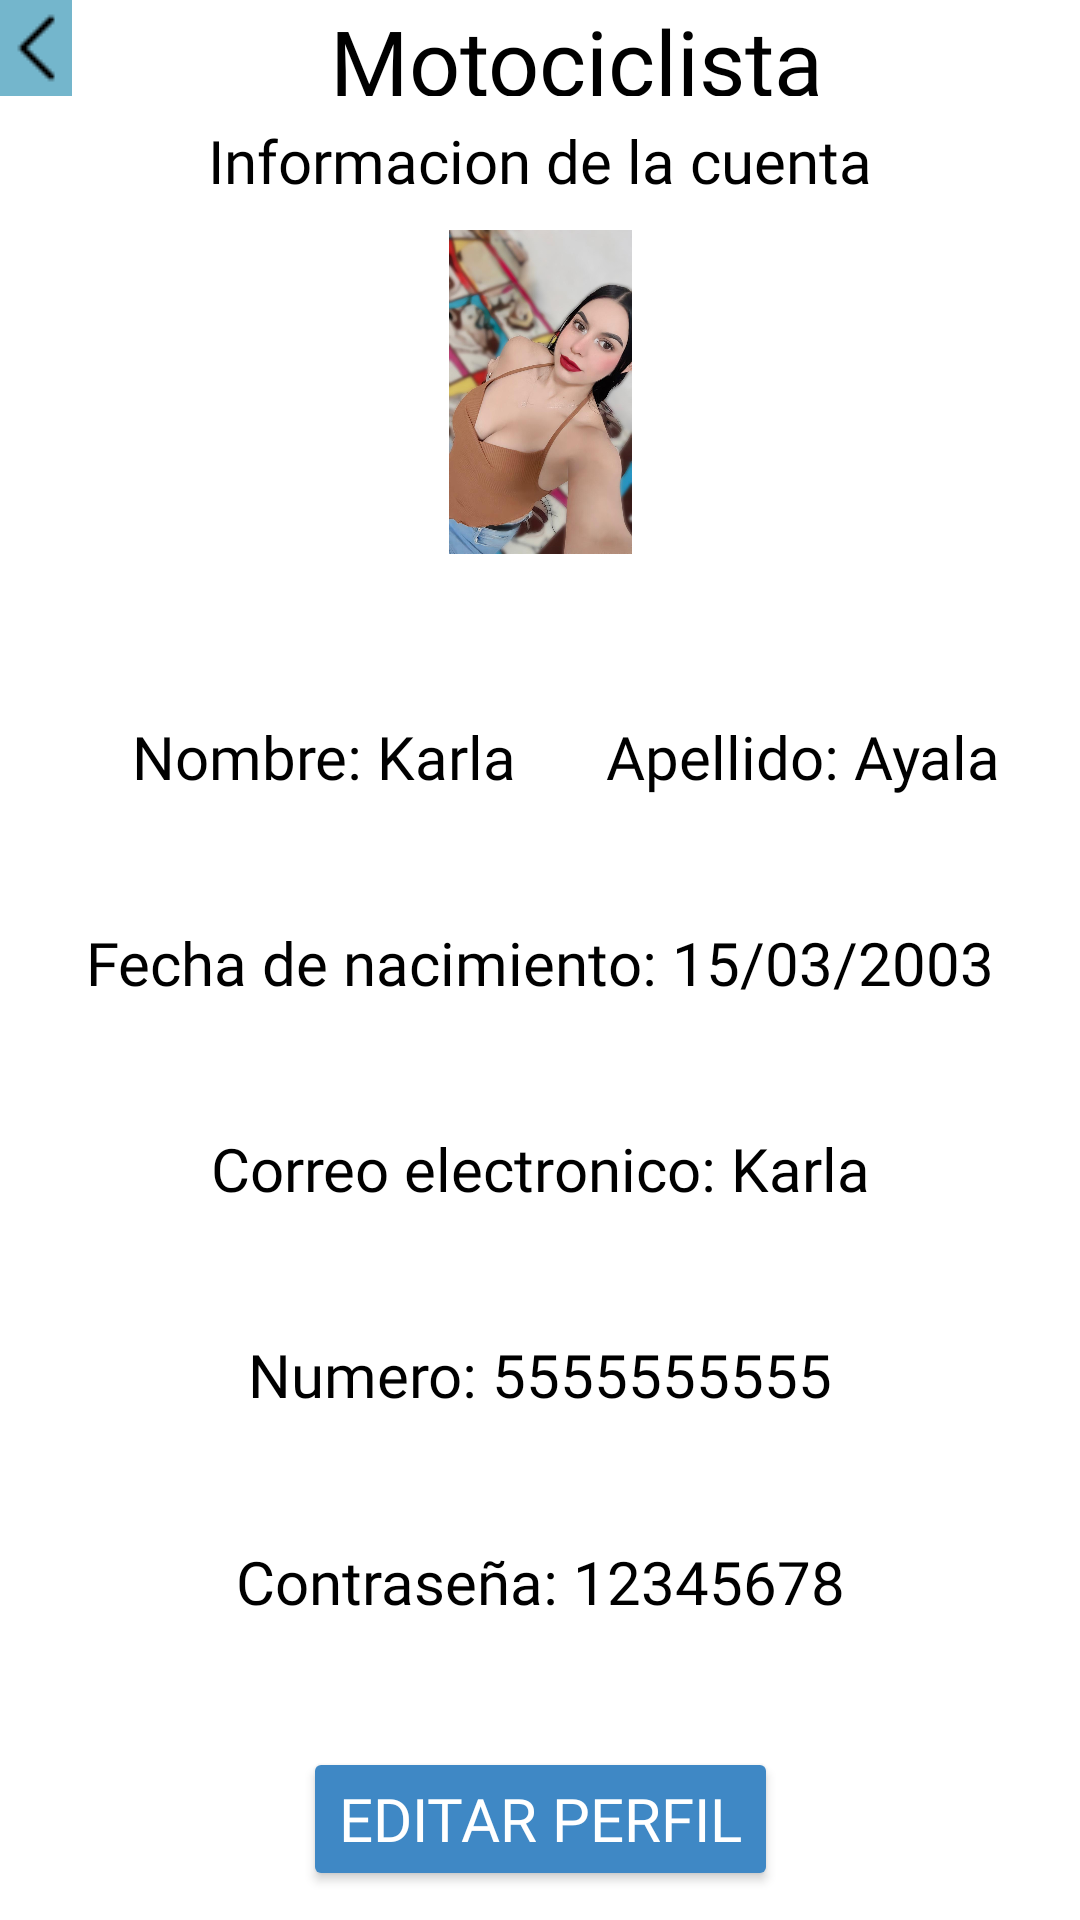

Icon click points for this 1080px×1920px phone screenshot, format [x,y]:
flecha: [36,48]
